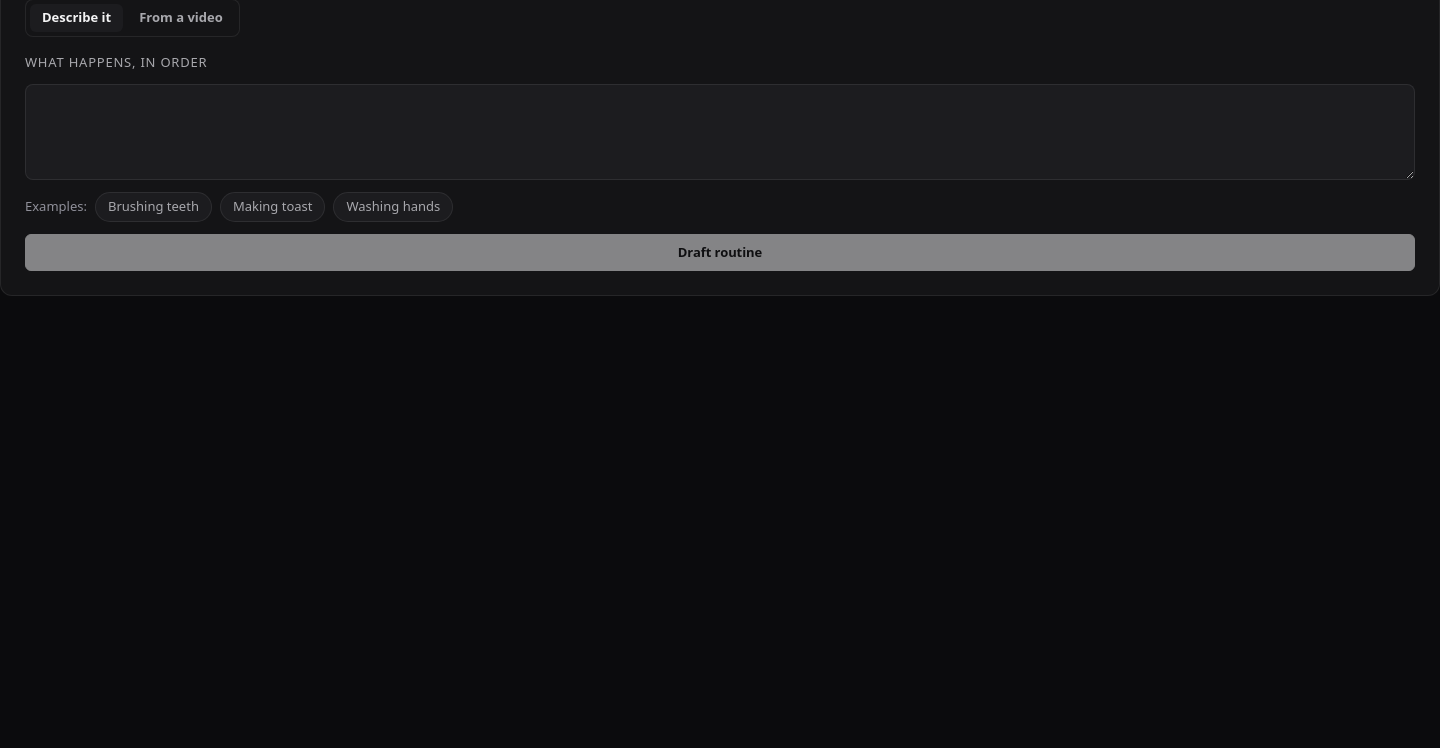
Test: editing and saving the draft › starting over returns to the tabs
Type "Brush my teeth every morning" into the text box labelled "What happens, in order".
click(720, 132); type("Brush my teeth every morning")  # box [25, 84, 1415, 180]
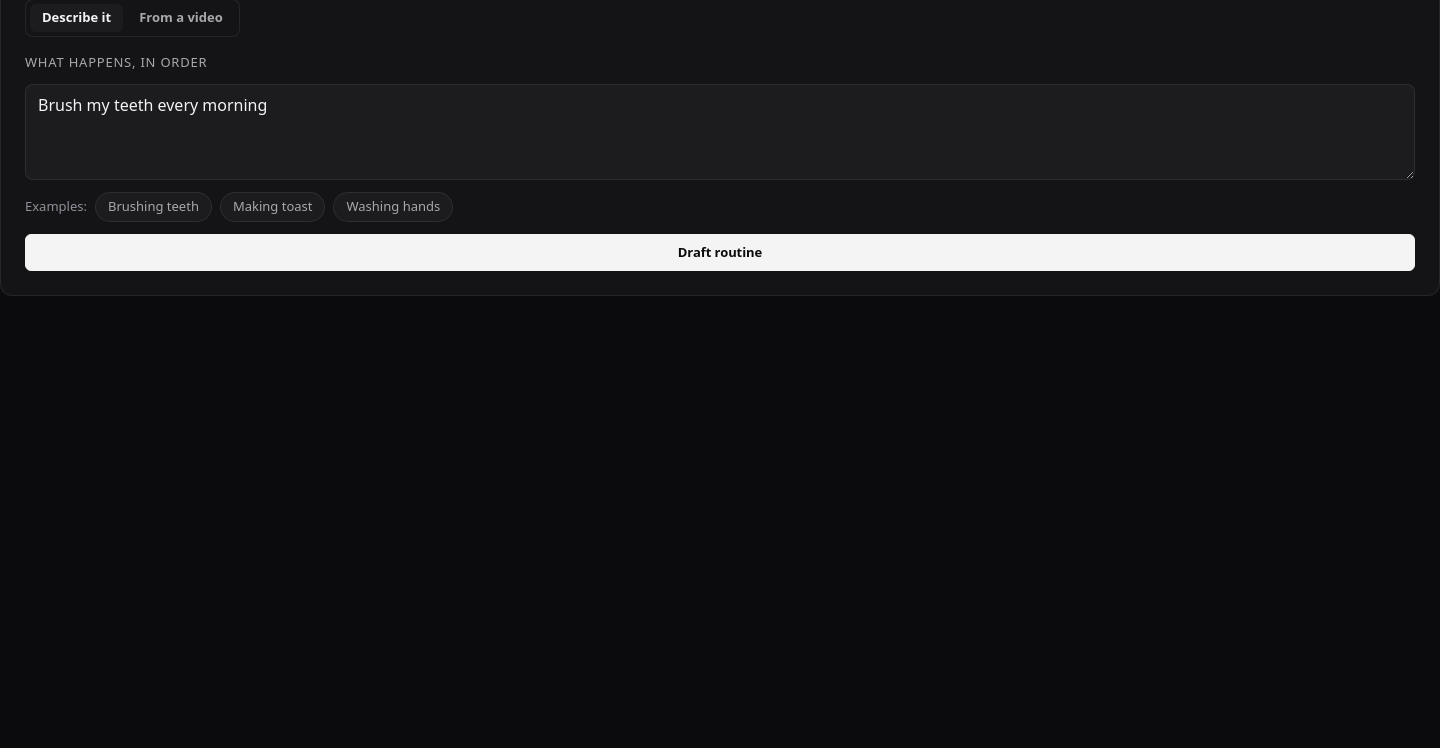
Click the button "Draft routine".
click(720, 252)  # box [25, 234, 1415, 271]
(page scrolled)
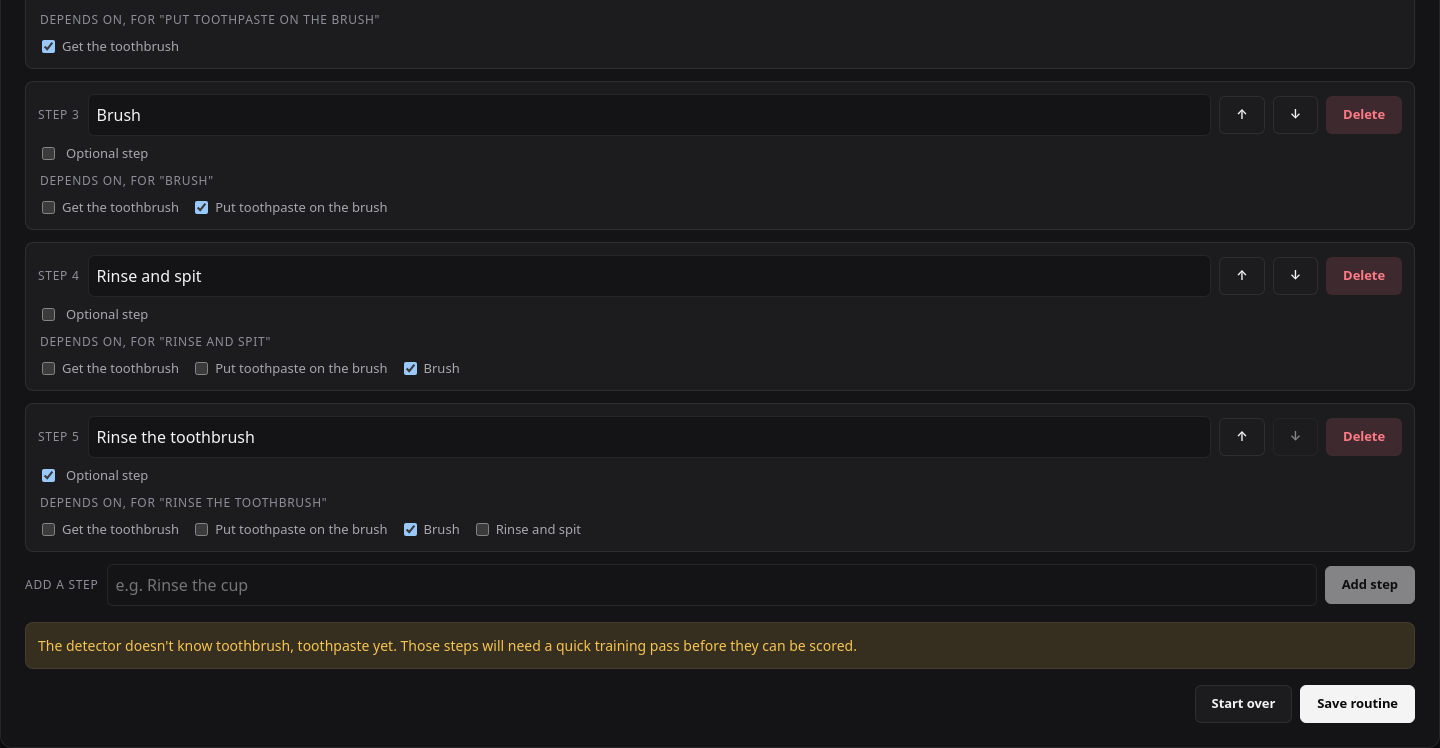
Click the button "Start over".
click(1243, 704)  # box [1194, 685, 1292, 722]
(page scrolled)
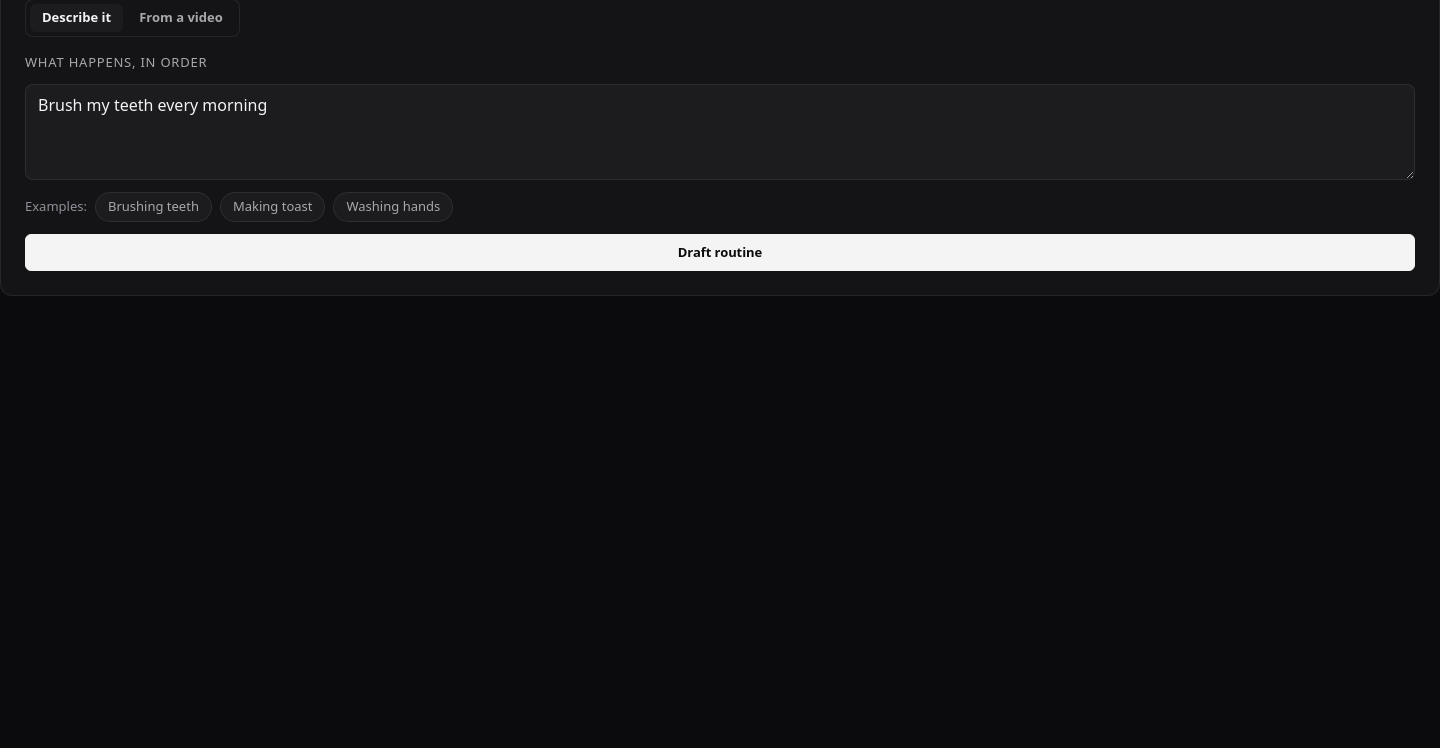
Now the text box labelled "What happens, in order" is shown, box [25, 84, 1415, 180]
